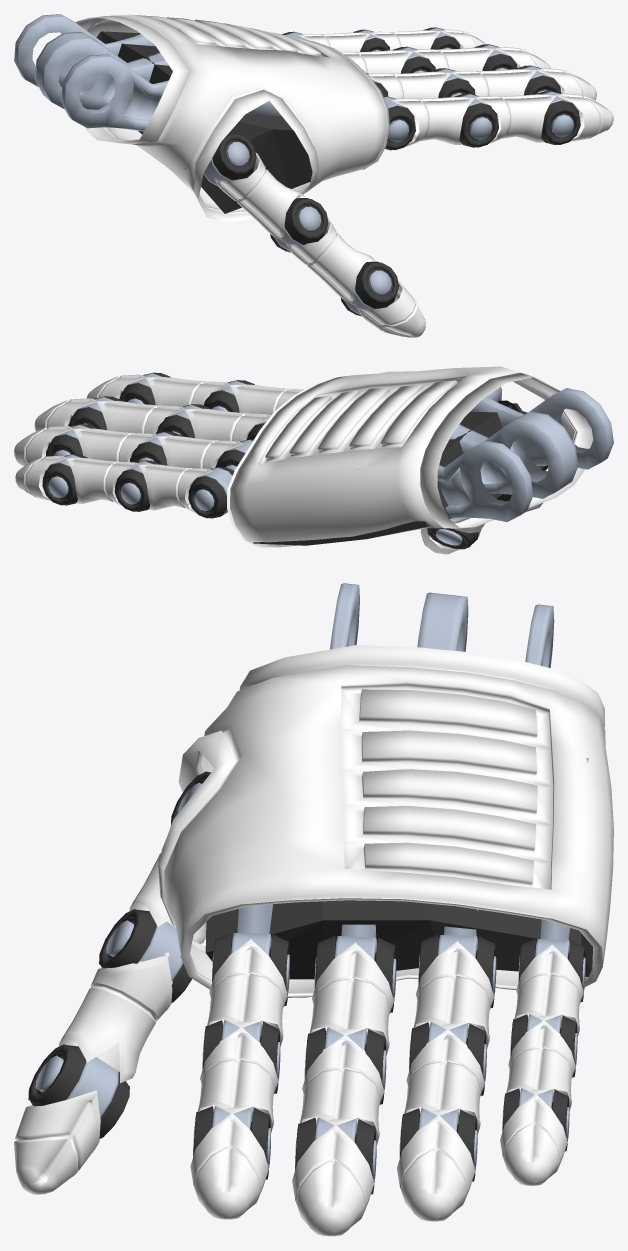
Rendered from leftHand.dae.
The picture shows the model from 3 angles, top to bottom: view 1: azimuth 30°, elevation 25°; view 2: azimuth 150°, elevation 25°; view 3: azimuth 270°, elevation 25°; orthographic projection. The views are drawn at different scales.
Visible parts, largest first — view 1: Mesh_023, Circle_166, Cube_007, Circle_179, Circle_180, Circle_176, Circle_177, Circle_181, Circle_215, Circle_213, Circle_214, Circle_173 (+17 smaller); view 2: Mesh_023, Circle_166, Cube_007, Circle_167, Circle_168, Circle_173, Circle_174, Circle_170, Circle_171, Circle_177, Circle_176, Circle_201 (+16 smaller); view 3: Mesh_023, Cube_007, Circle_180, Circle_181, Circle_175, Circle_178, Circle_172, Circle_166, Circle_173, Circle_174, Circle_176, Circle_170 (+23 smaller).
Boxes of the visible parts, x1=… form: Mesh_023: x1=76, y1=14, x2=389, y2=222; Circle_166: x1=14, y1=14, x2=168, y2=131; Cube_007: x1=96, y1=31, x2=312, y2=213; Circle_179: x1=214, y1=152, x2=305, y2=241; Circle_180: x1=284, y1=217, x2=375, y2=306; Circle_176: x1=391, y1=97, x2=474, y2=146; Circle_177: x1=475, y1=94, x2=556, y2=143; Circle_181: x1=356, y1=281, x2=425, y2=337; Circle_215: x1=341, y1=261, x2=398, y2=316; Circle_213: x1=203, y1=133, x2=256, y2=187; Circle_214: x1=270, y1=198, x2=328, y2=252; Circle_173: x1=368, y1=71, x2=450, y2=98; Mesh_023: x1=227, y1=366, x2=593, y2=547; Circle_166: x1=437, y1=388, x2=613, y2=521; Cube_007: x1=253, y1=403, x2=547, y2=545; Circle_167: x1=138, y1=464, x2=212, y2=513; Circle_168: x1=66, y1=458, x2=139, y2=505; Circle_173: x1=185, y1=408, x2=271, y2=441; Circle_174: x1=97, y1=401, x2=186, y2=433; Circle_170: x1=157, y1=436, x2=243, y2=468; Circle_171: x1=73, y1=428, x2=157, y2=461; Circle_177: x1=146, y1=377, x2=229, y2=406; Circle_176: x1=229, y1=384, x2=303, y2=414; Circle_201: x1=188, y1=467, x2=234, y2=518; Mesh_023: x1=158, y1=645, x2=613, y2=997; Cube_007: x1=205, y1=900, x2=592, y2=979; Circle_180: x1=59, y1=952, x2=172, y2=1083; Circle_181: x1=14, y1=1090, x2=100, y2=1194; Circle_175: x1=292, y1=1124, x2=374, y2=1236; Circle_178: x1=190, y1=1113, x2=268, y2=1219; Circle_172: x1=397, y1=1115, x2=475, y2=1221; Circle_166: x1=330, y1=583, x2=554, y2=667; Circle_173: x1=309, y1=942, x2=393, y2=1055; Circle_174: x1=299, y1=1032, x2=384, y2=1145; Circle_176: x1=207, y1=939, x2=287, y2=1046; Circle_170: x1=413, y1=941, x2=494, y2=1048.
Size of the model in its own units: 3.04 by 1.85 by 1.46.
